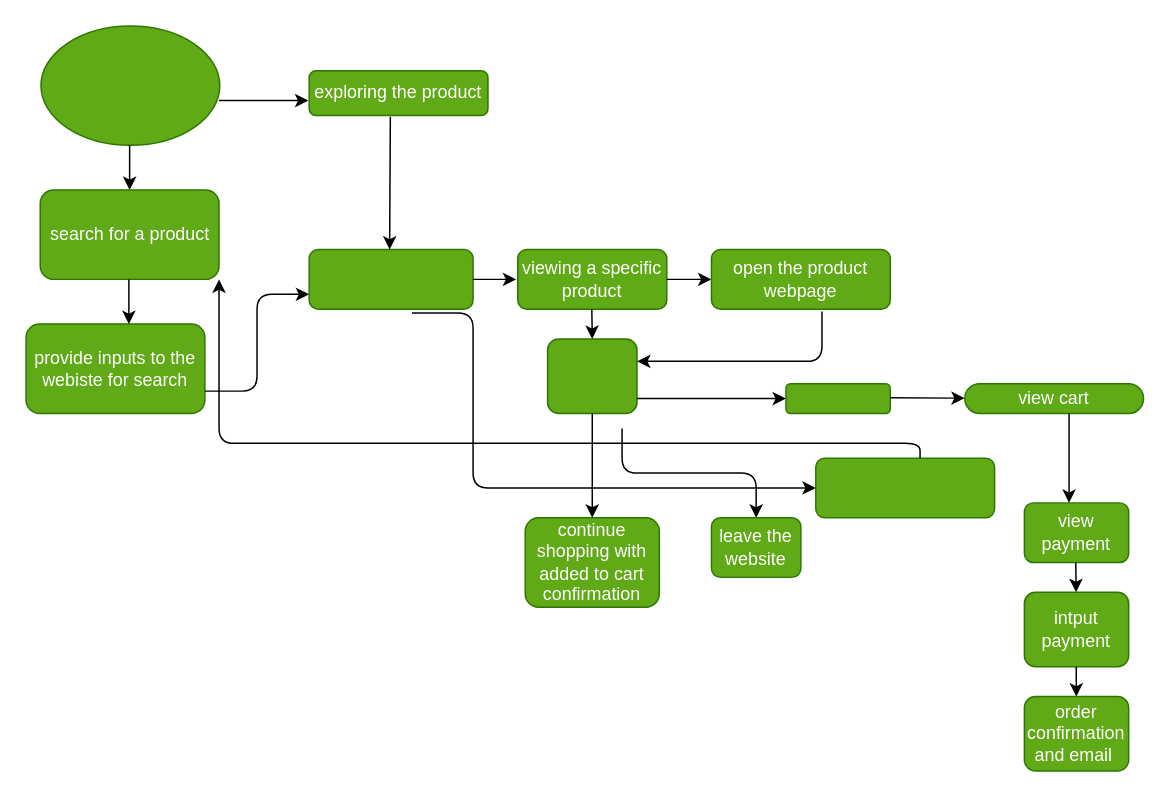
Image size: 1170x797. Some labels were removed from this diagram. The shapes that lost their labels are listed below. From the top down, each one's box as (x1, y1, x2, y2) in pixels, then its label:
(39, 25, 220, 145): The User begins by entering the website
(308, 248, 473, 309): begin looking over the products
(546, 337, 637, 413): add it to cart
(784, 382, 890, 413): checkout
(814, 457, 995, 518): continue shopping
